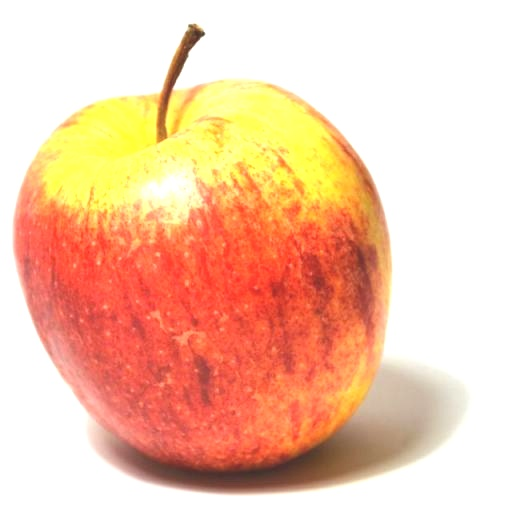fruit: (88, 42, 264, 110), (4, 124, 33, 437)
